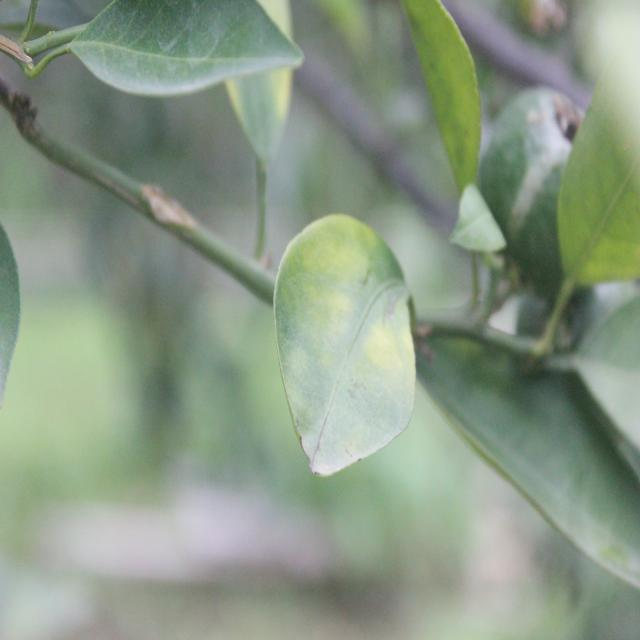canker: (276, 217, 435, 487)
